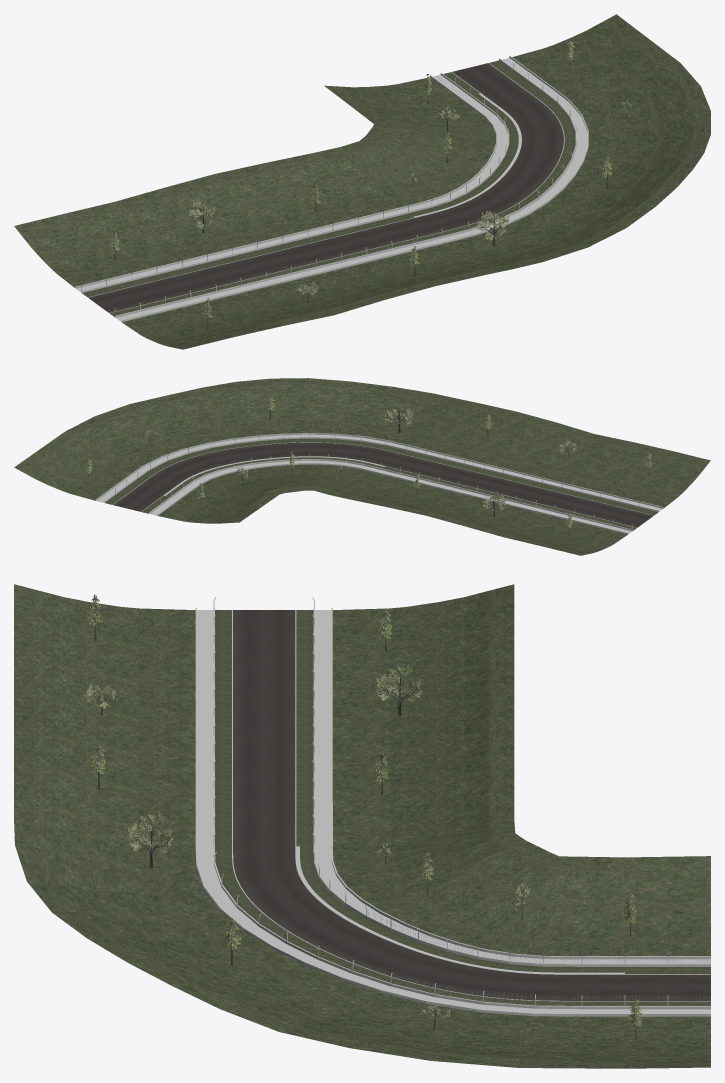
The picture shows the model from 3 angles, top to bottom: view 1: azimuth 30°, elevation 25°; view 2: azimuth 150°, elevation 25°; view 3: azimuth 270°, elevation 25°; orthographic projection. The views are drawn at different scales.
Visible parts, largest first — view 1: Grass, Road, Track, Trees; view 2: Grass, Road, Track, Trees; view 3: Grass, Road, Track, Trees.
Part boxes in pixels (x1=…): Grass: x1=14, y1=14, x2=710, y2=349; Road: x1=88, y1=63, x2=563, y2=312; Track: x1=75, y1=56, x2=588, y2=321; Trees: x1=109, y1=39, x2=631, y2=329; Grass: x1=14, y1=378, x2=710, y2=555; Road: x1=113, y1=442, x2=653, y2=527; Track: x1=96, y1=432, x2=663, y2=534; Trees: x1=85, y1=395, x2=652, y2=533; Grass: x1=14, y1=584, x2=710, y2=1068; Road: x1=233, y1=610, x2=710, y2=1000; Track: x1=195, y1=597, x2=710, y2=1016; Trees: x1=84, y1=594, x2=642, y2=1039.
Size of the model in its own units: 32000 by 1841 by 19500.
